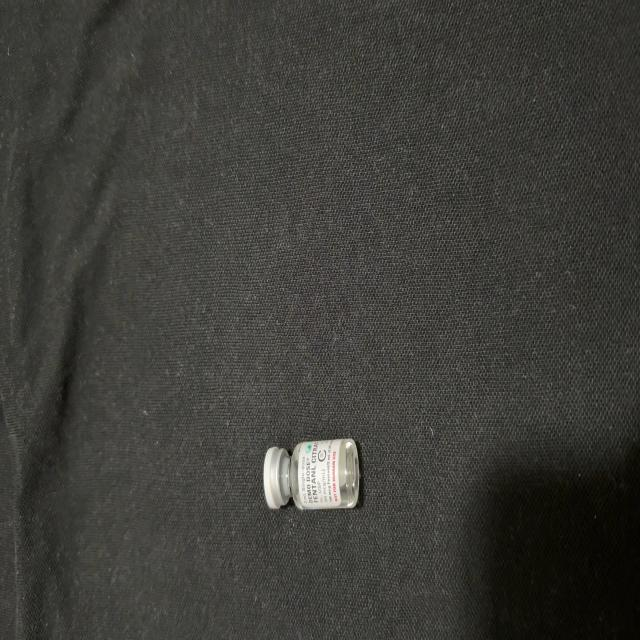fentanl_citrat: (265, 440, 359, 510)
